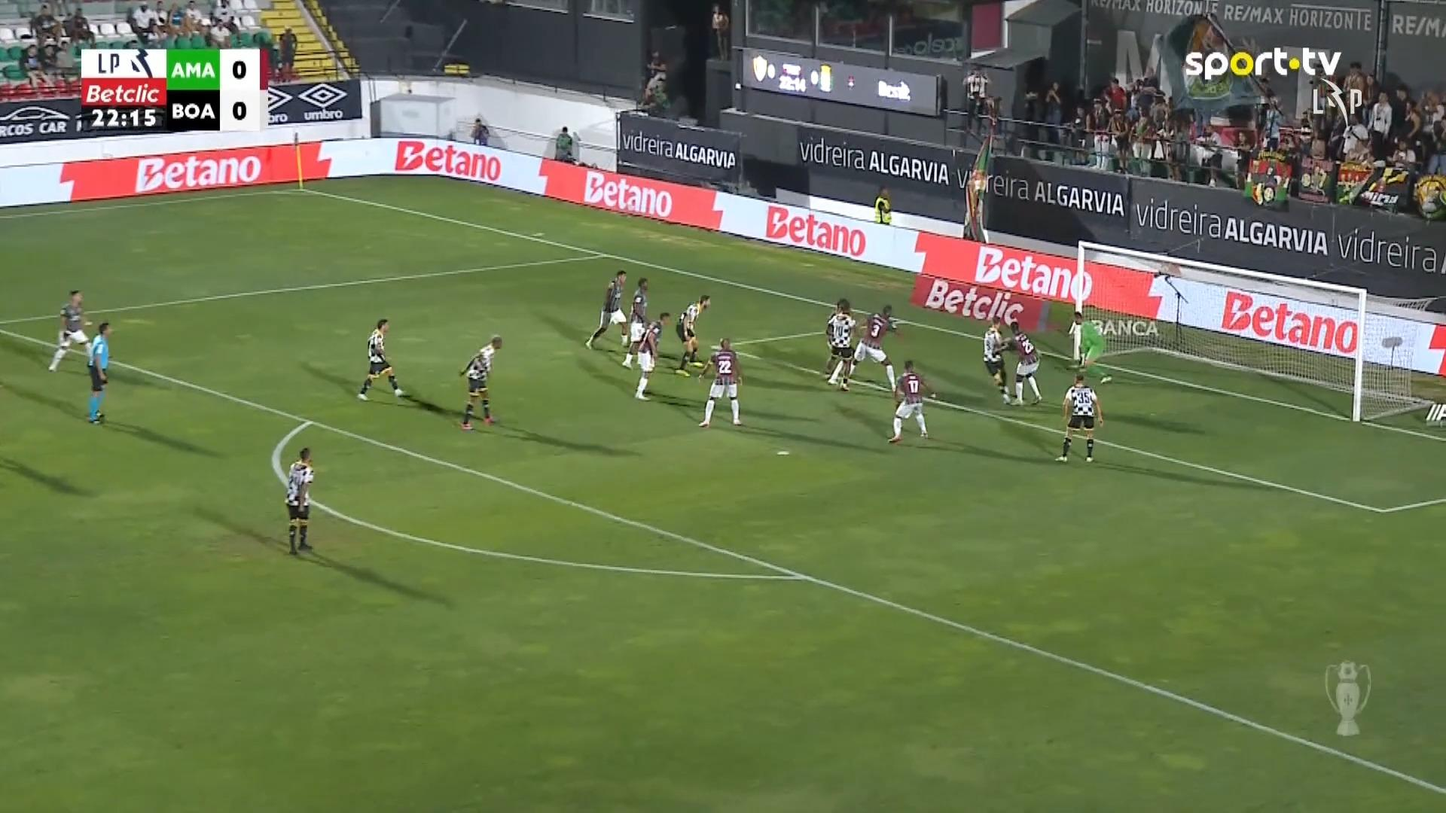goalkeeper: (1066, 309, 1112, 383)
player: (839, 303, 901, 393), (1054, 373, 1103, 462), (458, 333, 502, 430), (886, 358, 936, 443), (697, 337, 743, 428), (356, 318, 407, 400), (47, 288, 93, 373), (584, 269, 630, 350), (999, 319, 1042, 405), (283, 446, 315, 555), (633, 311, 670, 400), (823, 298, 856, 390), (981, 315, 1014, 406), (674, 294, 710, 376), (620, 276, 649, 369)
referee: (85, 320, 112, 424)
